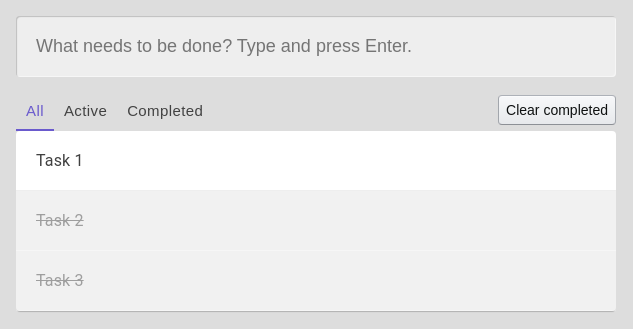
Test: Only active tasks are displayed on the Active tab.
Click the button "Active": (86, 110) [54,92,117,129]
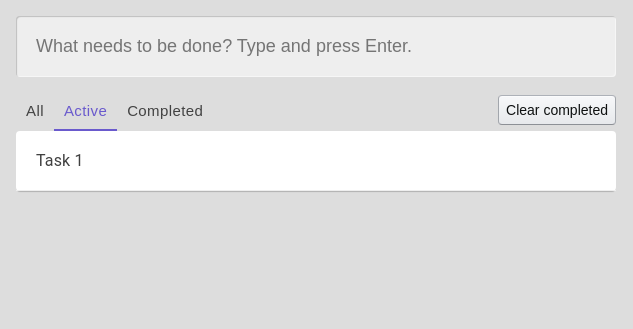
Result: the number of list items is 1 at [16,131,616,191]
